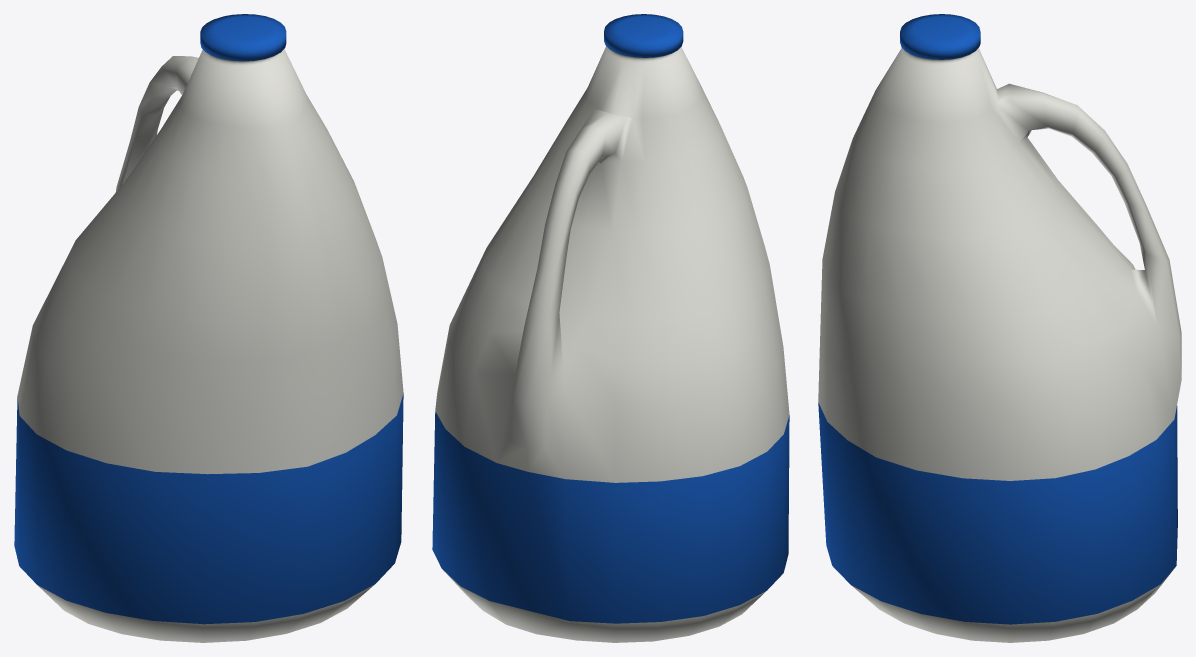
File: BleachBottle.fbx
3 views of the same model, side by side, from view 1: azimuth 30°, elevation 25°; view 2: azimuth 150°, elevation 25°; view 3: azimuth 270°, elevation 25° (orthographic). The views are drawn at different scales.
Visible parts, largest first — view 1: Cylinder.007; view 2: Cylinder.007; view 3: Cylinder.007.
Boxes of the visible parts, left/top/right/bottom form: Cylinder.007: left=14, top=14, right=403, bottom=642; Cylinder.007: left=432, top=14, right=789, bottom=642; Cylinder.007: left=818, top=14, right=1181, bottom=642.
Bounding box in the file's own units: 251 × 404 × 243.
